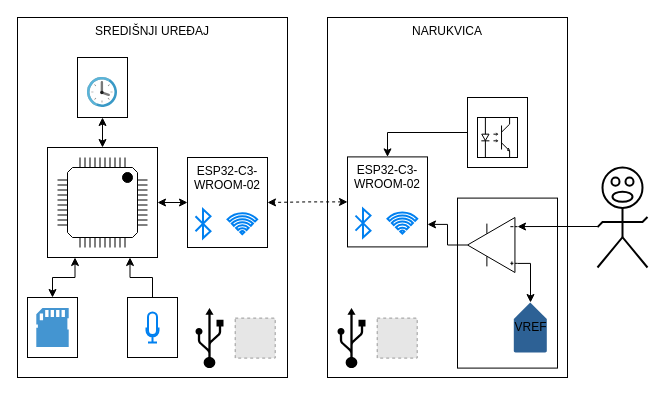
This 666x395 diagram has some shape labels left out. Grey dashed boxes stand in for pictures. Each missing label, with the centre of its shape:
"PPG" belongs at pixel 497 137.
"RTC" belongs at pixel 102 92.
"STM32F7" belongs at pixel 102 202.
